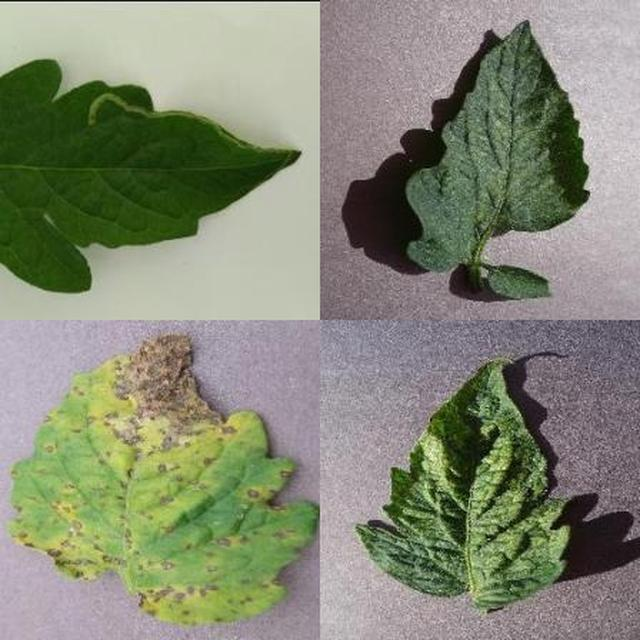Leaf Miner: (219, 209, 640, 640)
